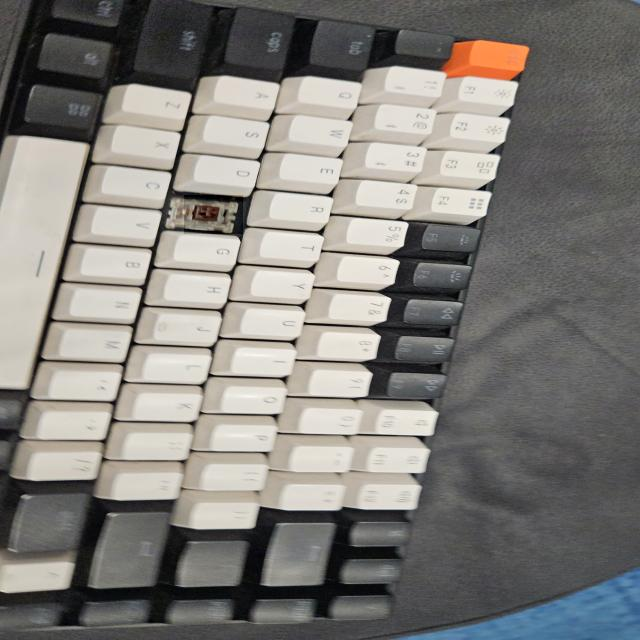C: (184, 195, 243, 234), (186, 198, 231, 230)
